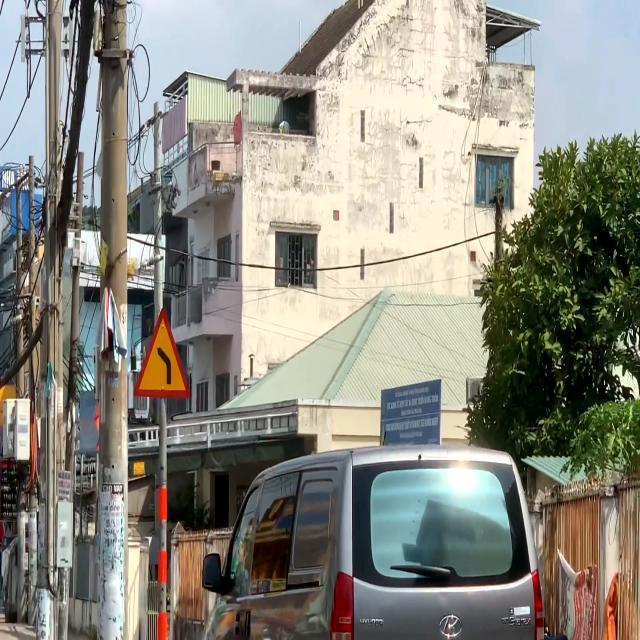cho ngoat nguy hiem vong ben trai: (131, 304, 192, 402)
